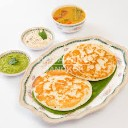dosa: (34, 70, 92, 108), (64, 41, 118, 80)
